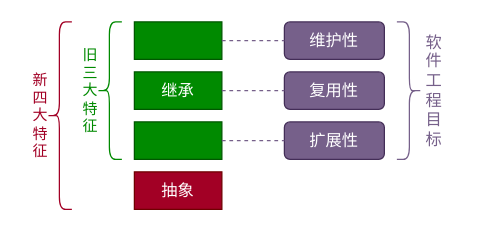
Some shapes in this 480 by 231 pixel diagram are drawn without their labels. Here are the shapes that lost their labels. From the top down, the box of each, then its label:
(133, 21, 222, 59): 封装
(133, 121, 222, 159): 多态
